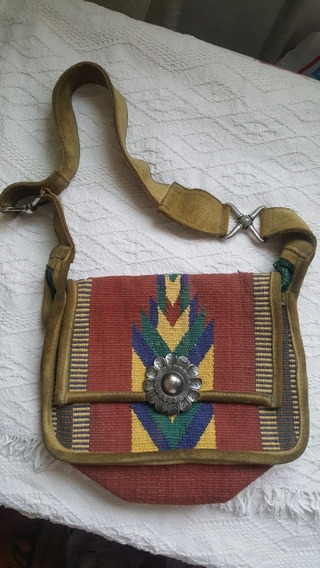cartera: (7, 57, 317, 504)
